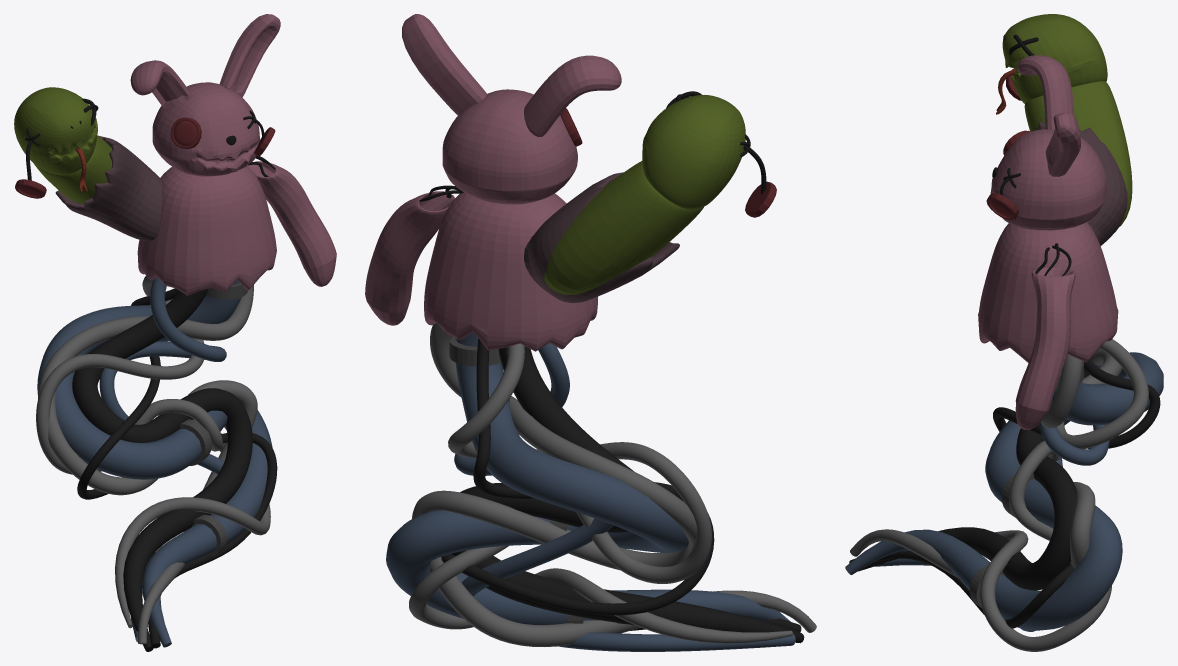
The model's file is monsterKomIt.fbx.
The picture shows the model from 3 angles, left to right: view 1: azimuth 30°, elevation 25°; view 2: azimuth 150°, elevation 25°; view 3: azimuth 270°, elevation 25°; orthographic projection. The views are drawn at different scales.
Visible parts, largest first — view 1: NurbsPath.003, Cube.006, NurbsPath.006, NurbsPath.007, NurbsPath.004, Cube.008, Cube, Cube.009, Cube.007, NurbsPath.005, NurbsPath.008, Cube.005 (+5 smaller); view 2: NurbsPath.003, Cube.008, Cube.006, NurbsPath.004, NurbsPath.007, Cube, NurbsPath.006, NurbsPath.008, Cube.007, NurbsPath.005, Cube.009, Cube.005 (+3 smaller); view 3: NurbsPath.003, Cube.006, Cube.008, NurbsPath.007, Cube, NurbsPath.006, Cube.007, NurbsPath.004, NurbsPath.005, Cube.009, Cube.004, Cube.005 (+2 smaller).
Boxes of the visible parts, left/top/right/bottom form: NurbsPath.003: left=37, top=280, right=272, bottom=647; Cube.006: left=137, top=166, right=276, bottom=295; NurbsPath.006: left=72, top=289, right=252, bottom=651; NurbsPath.007: left=36, top=276, right=270, bottom=628; NurbsPath.004: left=38, top=285, right=257, bottom=644; Cube.008: left=14, top=87, right=112, bottom=203; Cube: left=152, top=82, right=259, bottom=176; Cube.009: left=55, top=135, right=162, bottom=241; Cube.007: left=247, top=161, right=336, bottom=286; NurbsPath.005: left=77, top=288, right=277, bottom=648; NurbsPath.008: left=99, top=277, right=226, bottom=642; Cube.005: left=219, top=14, right=280, bottom=97; NurbsPath.003: left=386, top=332, right=790, bottom=625; Cube.008: left=544, top=95, right=745, bottom=294; Cube.006: left=424, top=192, right=597, bottom=351; NurbsPath.004: left=412, top=323, right=816, bottom=646; NurbsPath.007: left=409, top=343, right=792, bottom=643; Cube: left=442, top=89, right=577, bottom=204; NurbsPath.006: left=451, top=346, right=804, bottom=643; NurbsPath.008: left=454, top=343, right=795, bottom=651; Cube.007: left=365, top=191, right=454, bottom=325; NurbsPath.005: left=441, top=338, right=801, bottom=632; Cube.009: left=524, top=172, right=679, bottom=303; Cube.005: left=402, top=14, right=487, bottom=115; NurbsPath.003: left=845, top=352, right=1163, bottom=630; Cube.006: left=978, top=222, right=1118, bottom=362; Cube.008: left=1002, top=14, right=1132, bottom=227; NurbsPath.007: left=980, top=339, right=1148, bottom=651; Cube: left=990, top=129, right=1106, bottom=230; NurbsPath.006: left=858, top=369, right=1089, bottom=590; Cube.007: left=1015, top=268, right=1075, bottom=430; NurbsPath.004: left=850, top=348, right=1122, bottom=577; NurbsPath.005: left=849, top=359, right=1160, bottom=628; Cube.009: left=1028, top=121, right=1127, bottom=245; Cube.004: left=1017, top=55, right=1074, bottom=129; Cube.005: left=1045, top=112, right=1080, bottom=176.
Size of the model in its own units: 698 by 1073 by 542.
